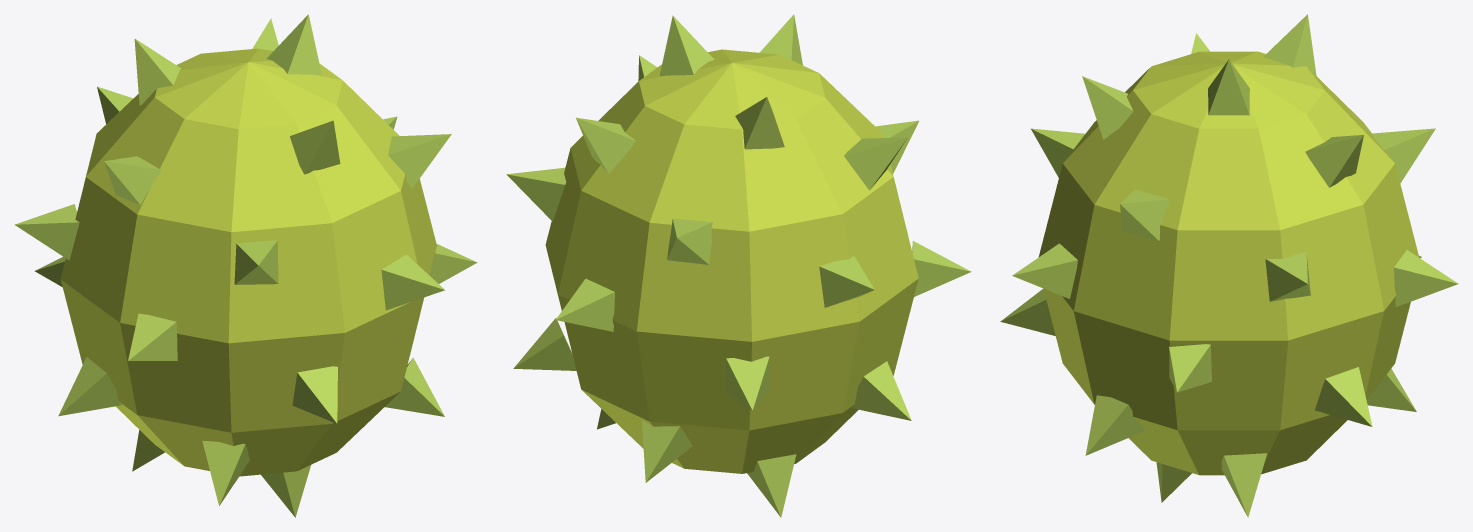
Rendered from Durian.fbx.
3 views of the same model, side by side, from view 1: azimuth 30°, elevation 25°; view 2: azimuth 150°, elevation 25°; view 3: azimuth 270°, elevation 25° (orthographic).
Visible parts, largest first — view 1: Durian; view 2: Durian; view 3: Durian.
Boxes of the visible parts, x1,y1,x2,y2 form: Durian: [14, 14, 477, 517]; Durian: [506, 14, 971, 517]; Durian: [1000, 14, 1458, 517].
Size of the model in its own units: 1.65 by 1.88 by 1.67.
1 material, 1 textured.
